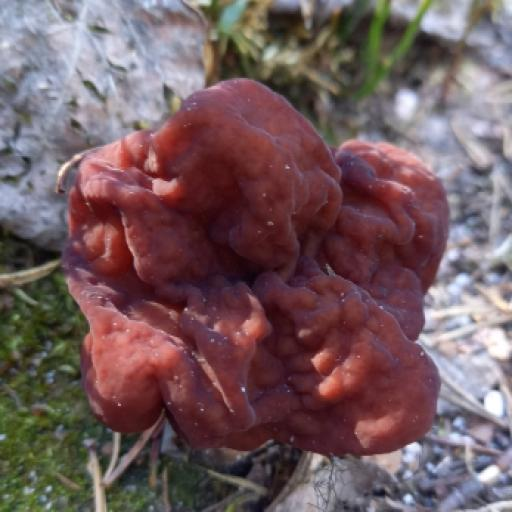False Morel: (55, 79, 459, 456)
